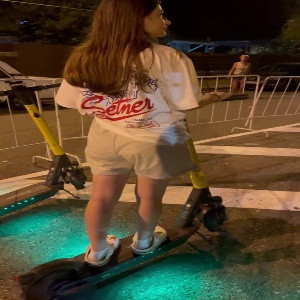human on a scooter: (9, 1, 251, 300)
